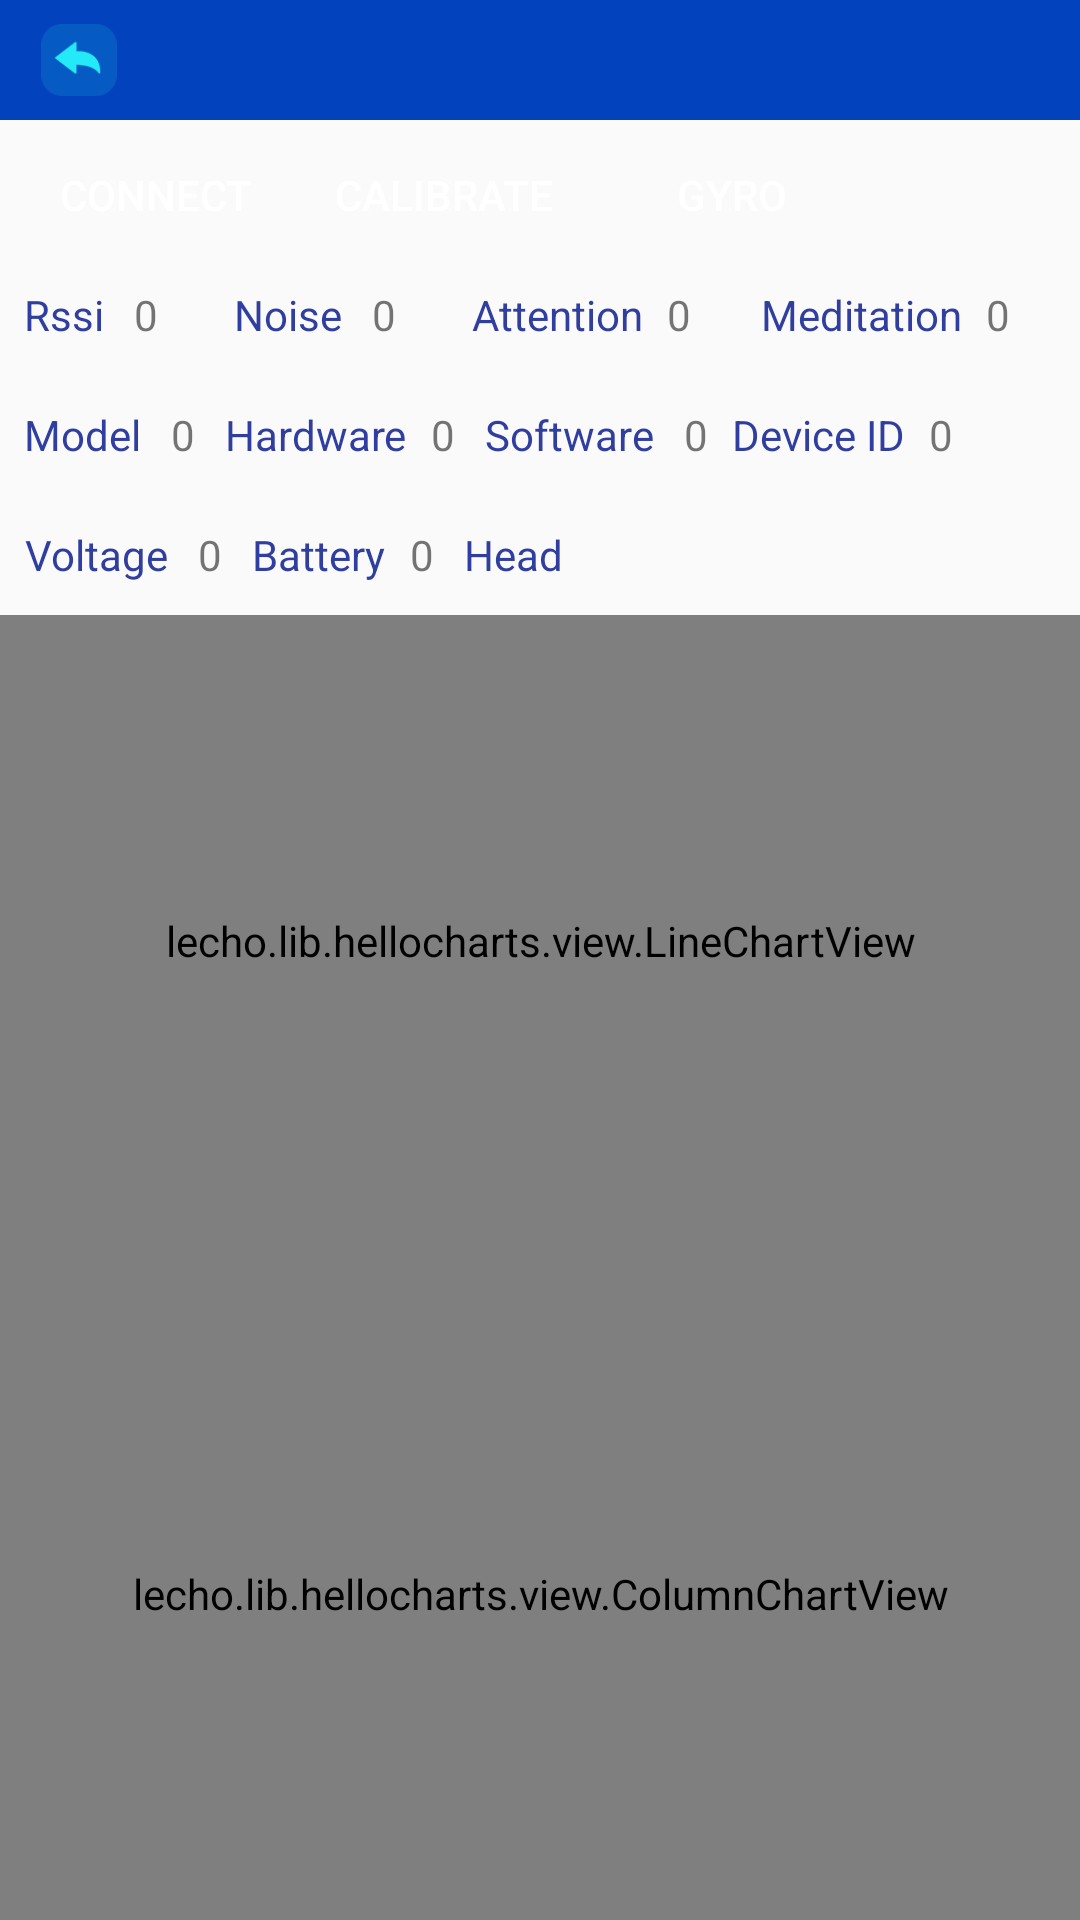

Where to tap for icons on this 1080 x 1920 app screen, as [x,y]:
back: [79,60]
